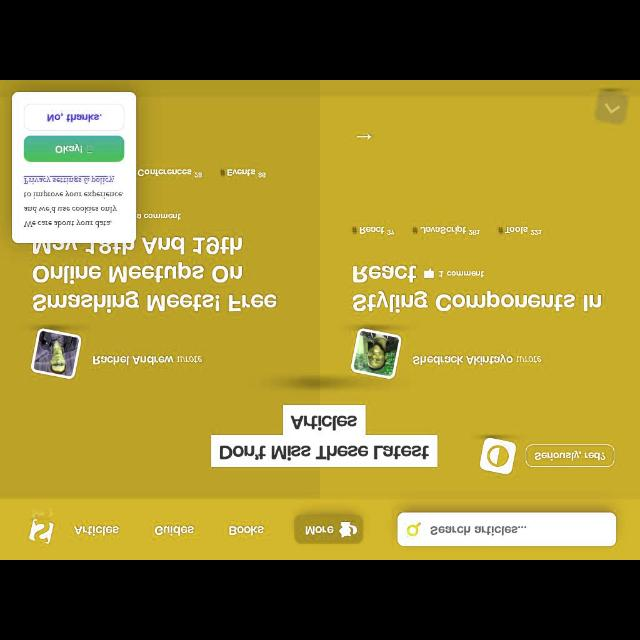icon: (405, 520, 421, 538), (356, 132, 372, 142), (422, 266, 433, 278)
image: (348, 330, 404, 376), (28, 328, 80, 377), (476, 436, 520, 476), (592, 88, 630, 124), (24, 509, 58, 549)
input: (400, 514, 616, 544)
text: (34, 226, 276, 314), (214, 406, 438, 466), (354, 294, 598, 312), (24, 190, 124, 228), (95, 353, 202, 365), (414, 354, 540, 364), (427, 524, 529, 536), (353, 264, 411, 284), (414, 225, 482, 237), (136, 166, 202, 178), (500, 222, 546, 238), (76, 524, 124, 538), (351, 224, 394, 236), (153, 524, 195, 536), (136, 210, 180, 220), (228, 524, 264, 536), (220, 169, 264, 177), (437, 272, 485, 278)
textbutton: (22, 102, 126, 130), (24, 138, 124, 160), (530, 444, 612, 466), (298, 518, 364, 544), (26, 174, 116, 186)
